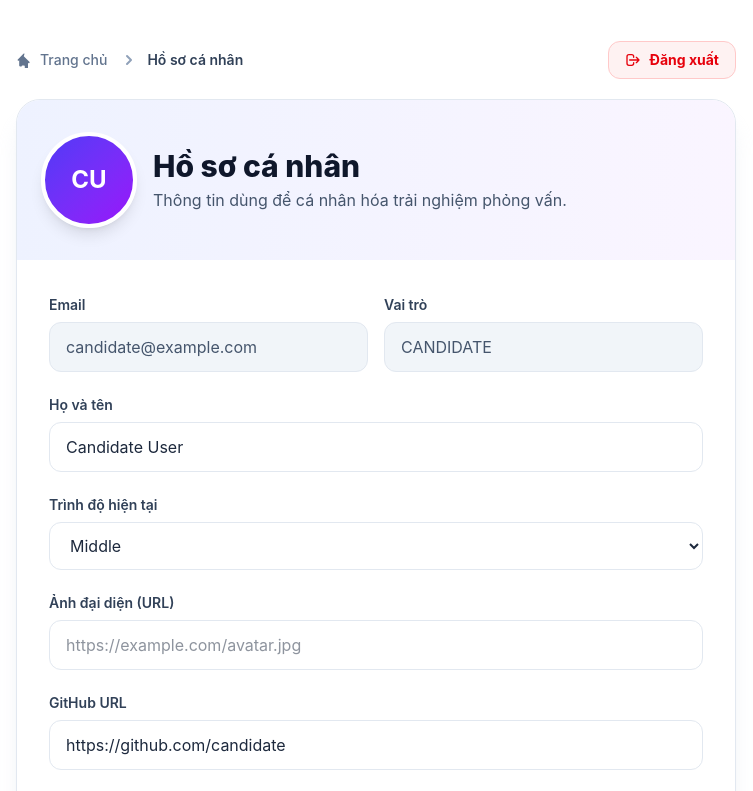
it: ProfilePage › hydrates, saves, and updates the auth store
The image size is (753, 791).
expect the dropdown labelled "Trình độ hiện tại" shows "Middle": met, box [49,522,703,570]
Replace the text in the field labelled "Họ và tên" with "Updated User" at (376, 447), box [49,422,703,472]
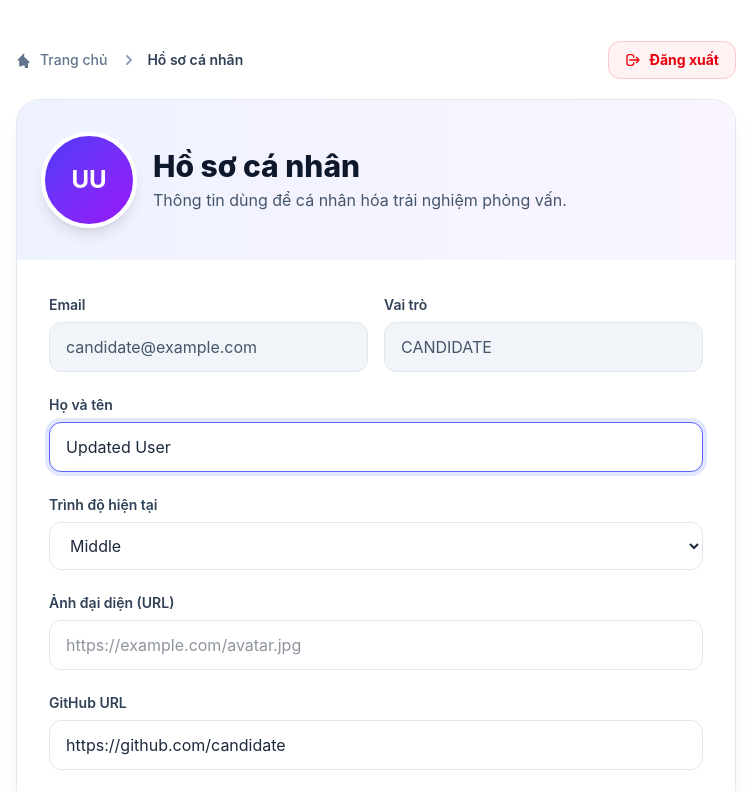
Select "Senior" in the dropdown labelled "Trình độ hiện tại" at (376, 546), box [49,522,703,570]
(page scrolled)
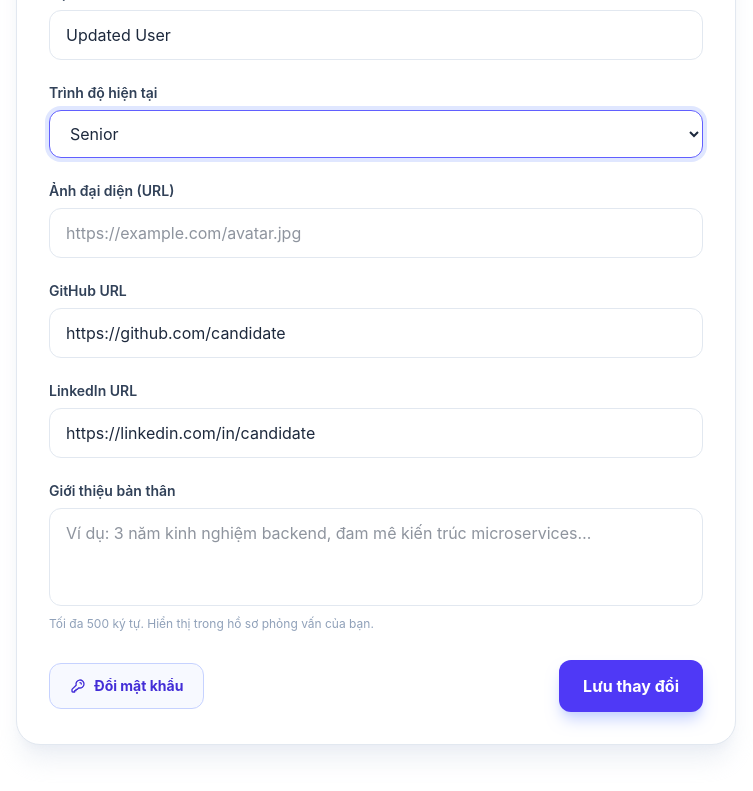
Click the button "Lưu thay đổi" at (631, 686), box [559,660,703,712]
(page scrolled)
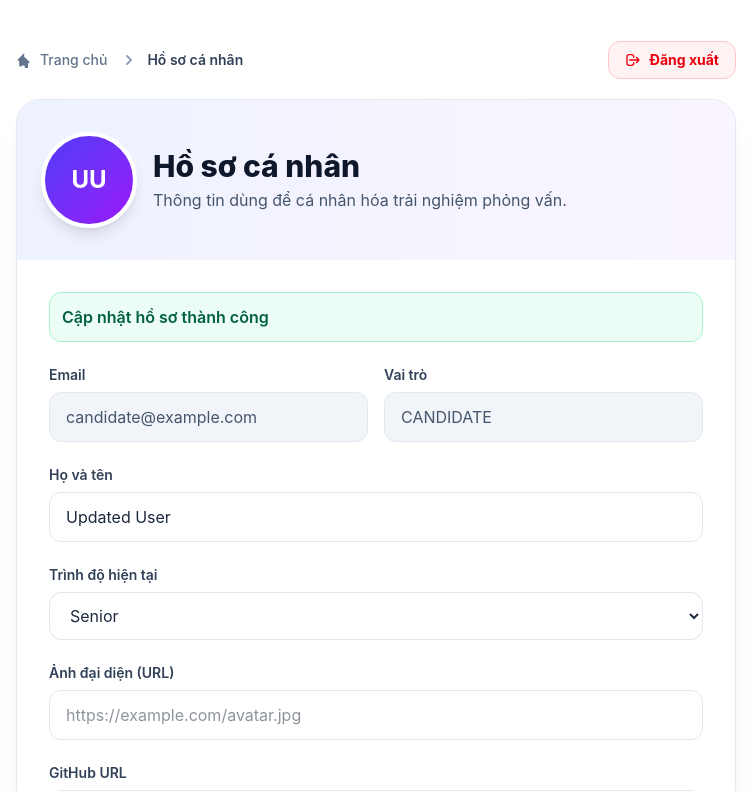
expect the text "Cập nhật hồ sơ thành công" is shown: met, box [49,292,703,342]
